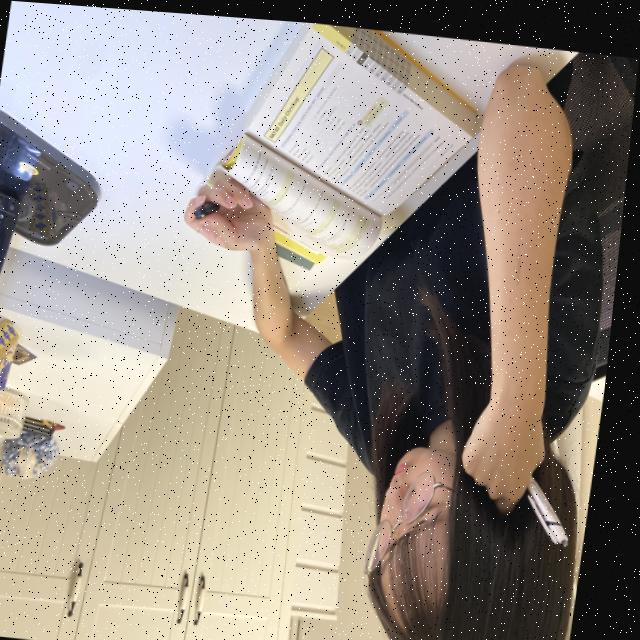studying-person: (132, 11, 640, 640)
